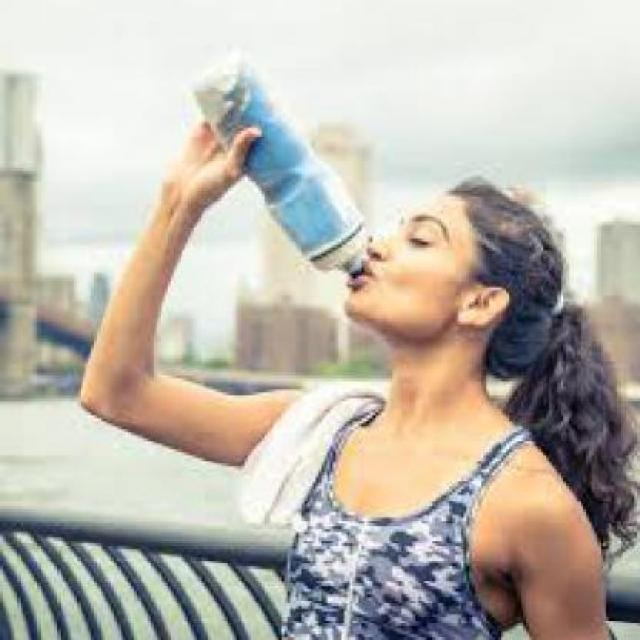Drinking: (199, 84, 387, 286)
